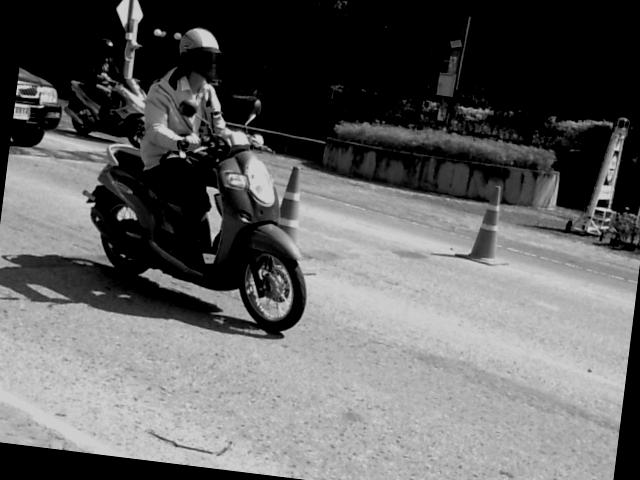helmet: (172, 24, 230, 82), (98, 37, 113, 53)
motor: (82, 131, 306, 331), (65, 79, 145, 146)
person: (140, 27, 229, 268), (85, 37, 119, 125)
